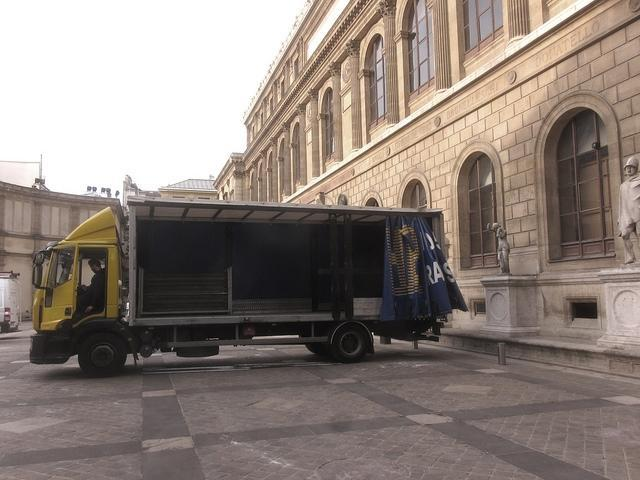truck: (26, 199, 468, 376)
